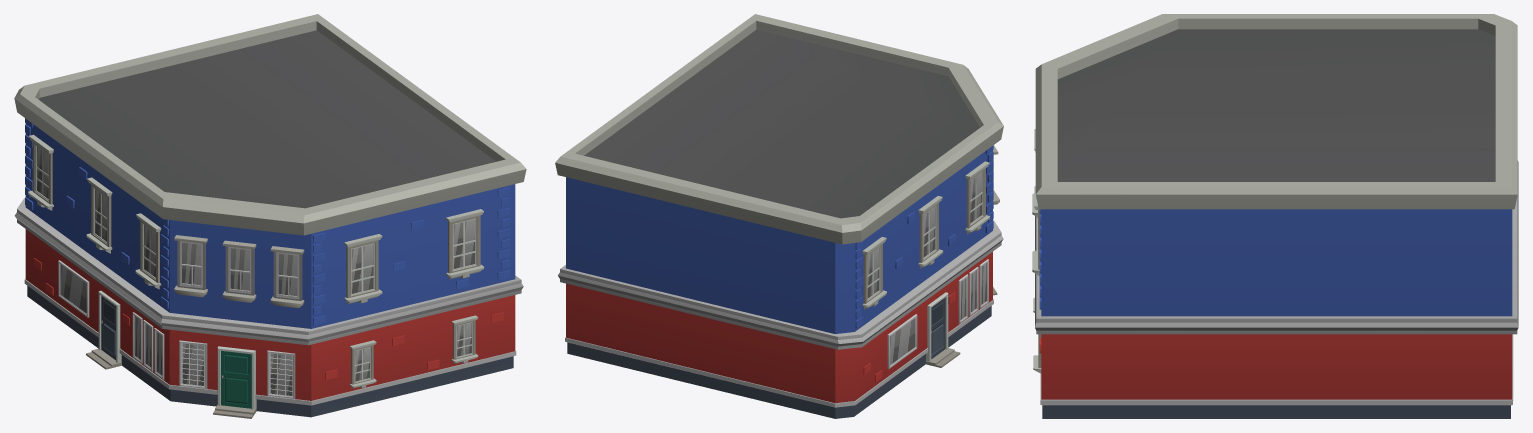
The model's file is Building_25_4_B.fbx.
3 views of the same model, side by side, from view 1: azimuth 30°, elevation 25°; view 2: azimuth 150°, elevation 25°; view 3: azimuth 270°, elevation 25° (orthographic). The views are drawn at different scales.
Parts seen in each view (by area): view 1: Building_25_4_B; view 2: Building_25_4_B; view 3: Building_25_4_B.
Part boxes in pixels (x1,y1,x2,y2): Building_25_4_B: (14, 14, 526, 418); Building_25_4_B: (555, 14, 1003, 418); Building_25_4_B: (1032, 14, 1518, 418).
Bounding box in the file's own units: 1291 × 793 × 1479.
